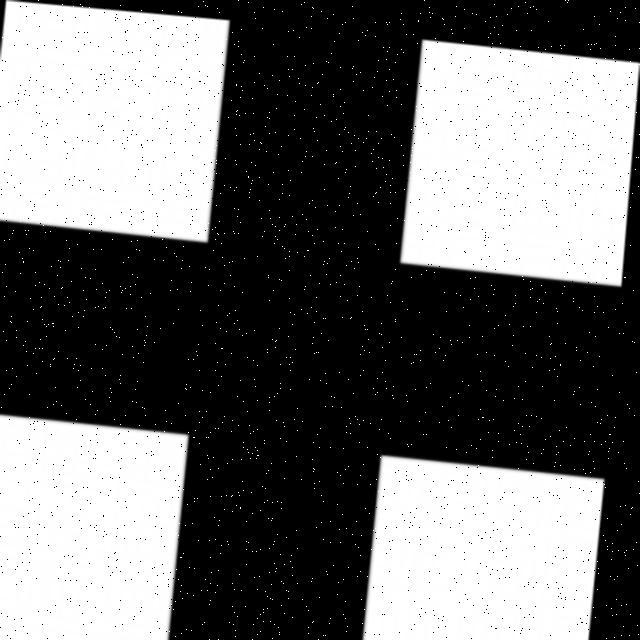cross: (43, 89, 574, 574)
